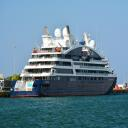cruises: (13, 25, 121, 101)
